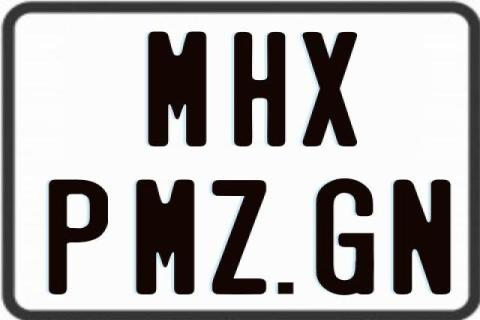G: (314, 178, 375, 298)
H: (232, 31, 289, 151)
M: (133, 177, 194, 296), (148, 30, 208, 146)
N: (392, 177, 450, 296)
P: (46, 178, 106, 294)
X: (300, 31, 358, 147)
Z: (212, 179, 266, 297)
